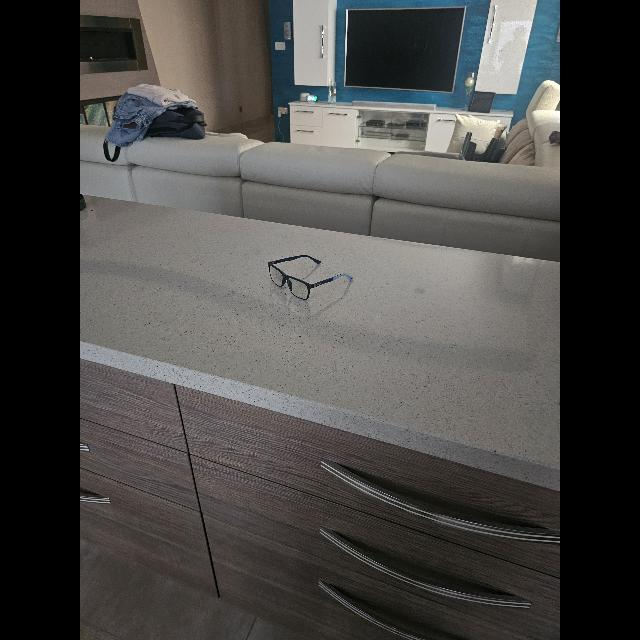glasses: (268, 254, 352, 300)
